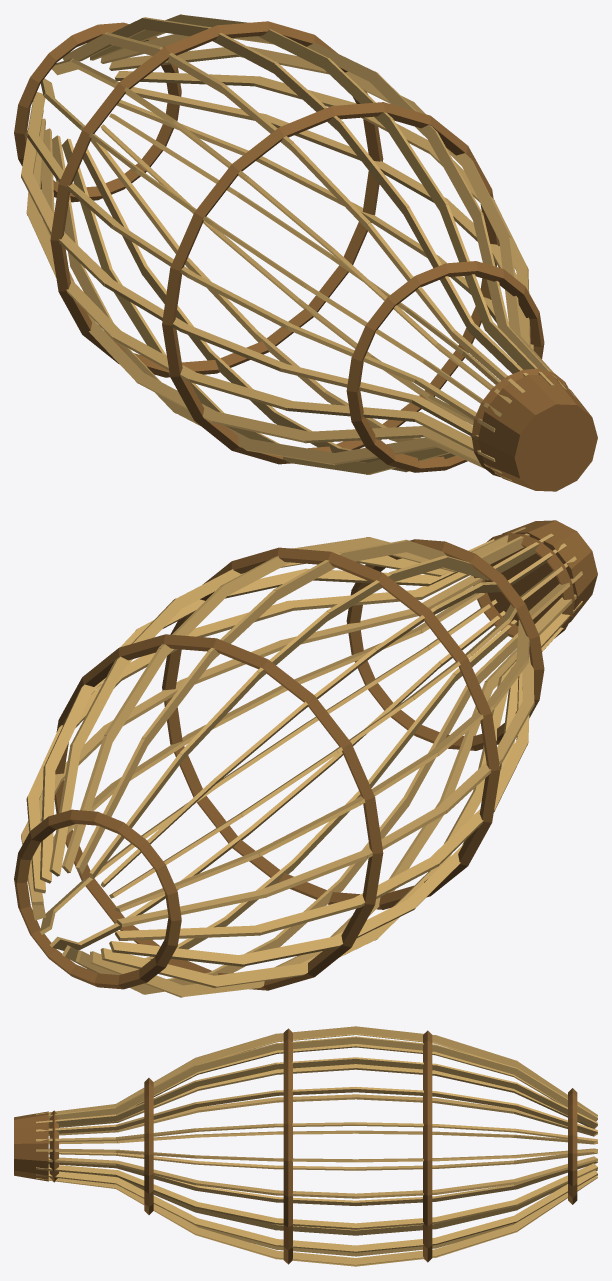
The model's file is fish_trap.glb.
The picture shows the model from 3 angles, top to bottom: view 1: azimuth 30°, elevation 25°; view 2: azimuth 150°, elevation 25°; view 3: azimuth 270°, elevation 25°; orthographic projection. The views are drawn at different scales.
Visible parts, largest first — view 1: fish_trap; view 2: fish_trap; view 3: fish_trap.
Part boxes in pixels (box(x1,y1,x2,y2)): fish_trap: box(14, 14, 597, 491); fish_trap: box(14, 520, 597, 997); fish_trap: box(14, 1026, 597, 1266).
Bounding box in the file's own units: 0.4123 × 0.4123 × 0.995.
